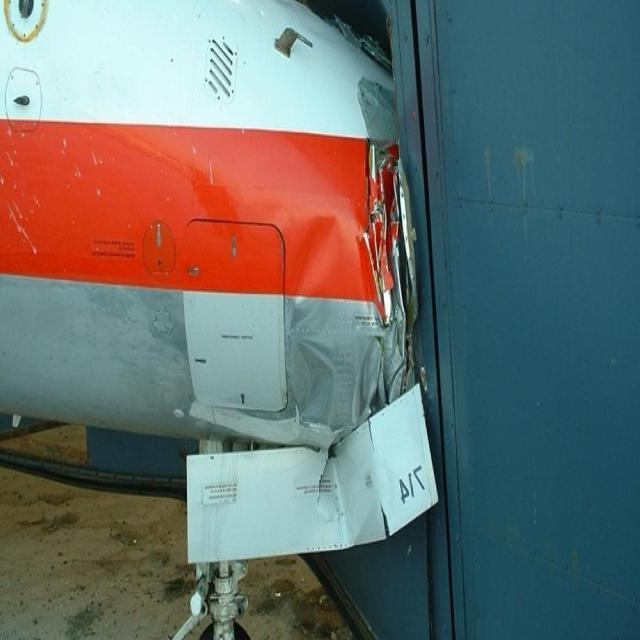dent: (292, 217, 347, 428)
